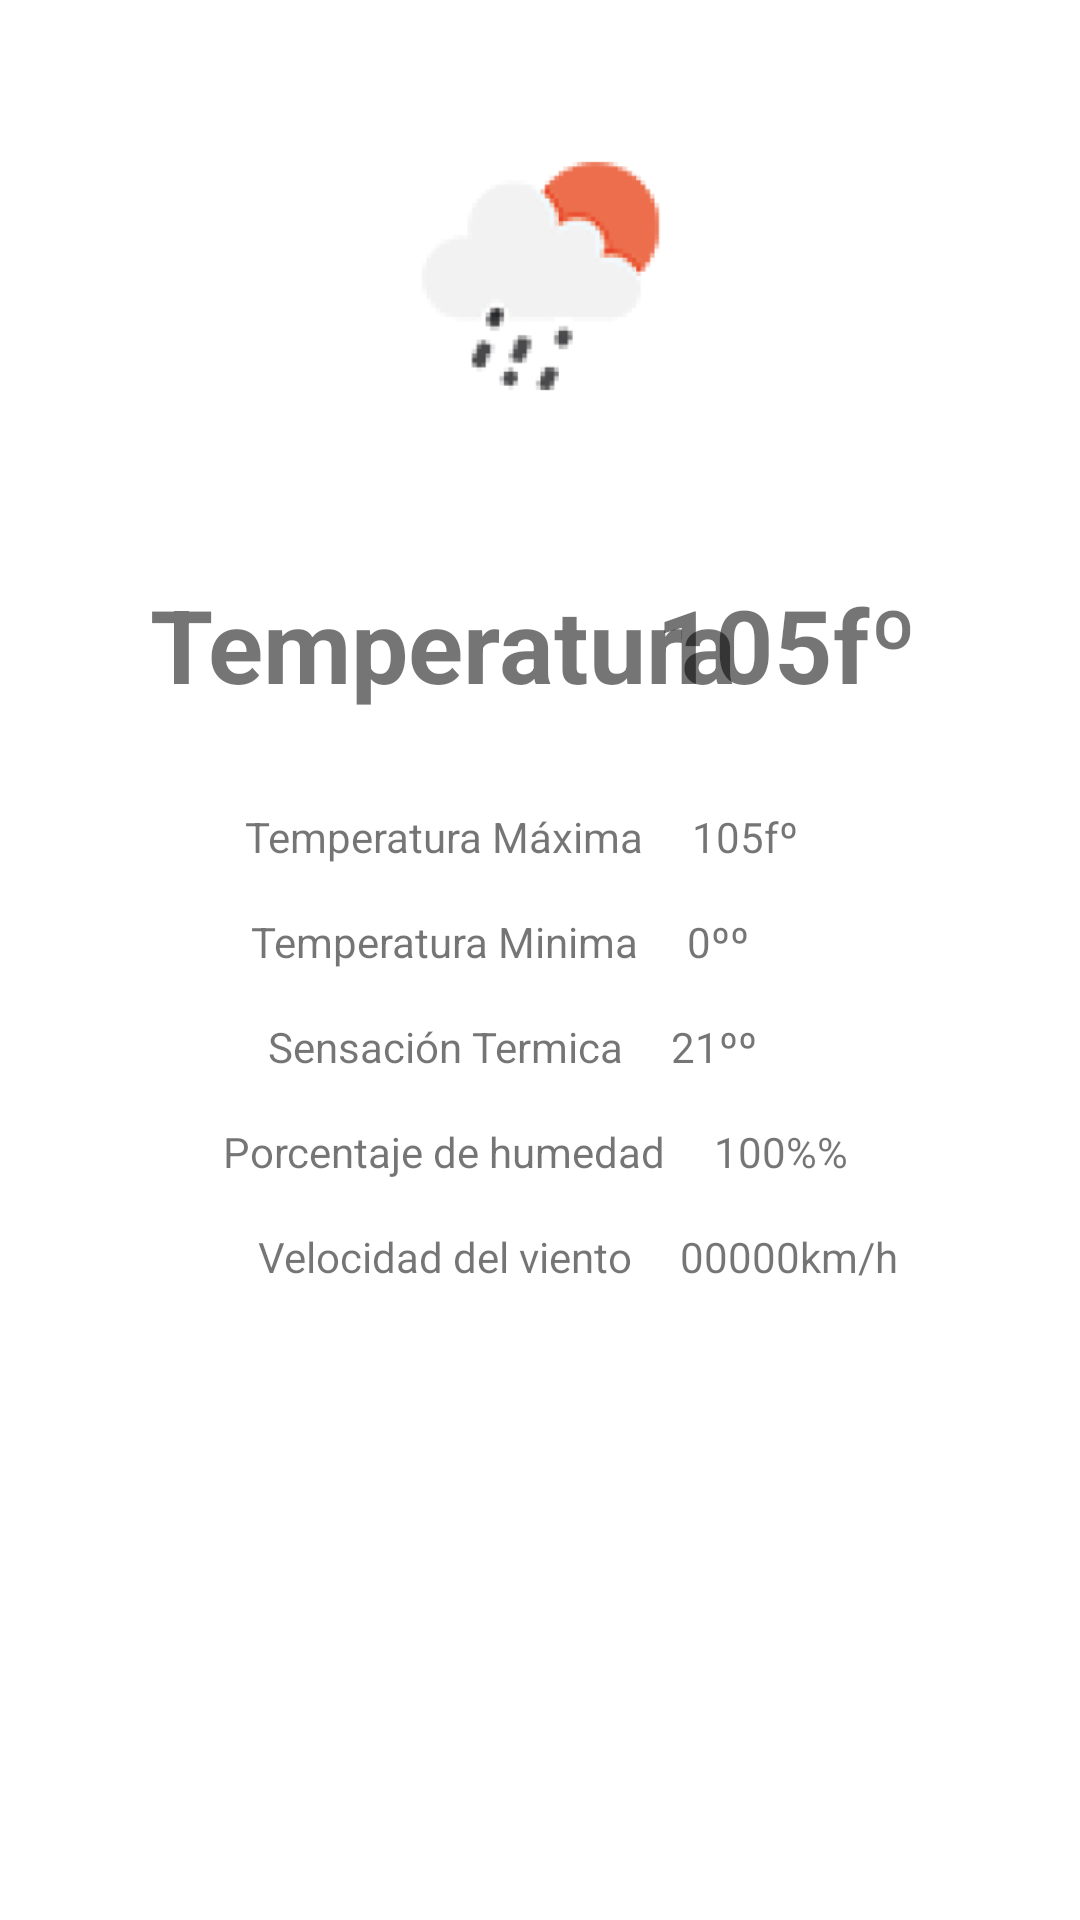

Screen size 1080 × 1920. Icon name, then its center in pixels as (x=x, y=y):
solluvia: (x=565, y=276)
